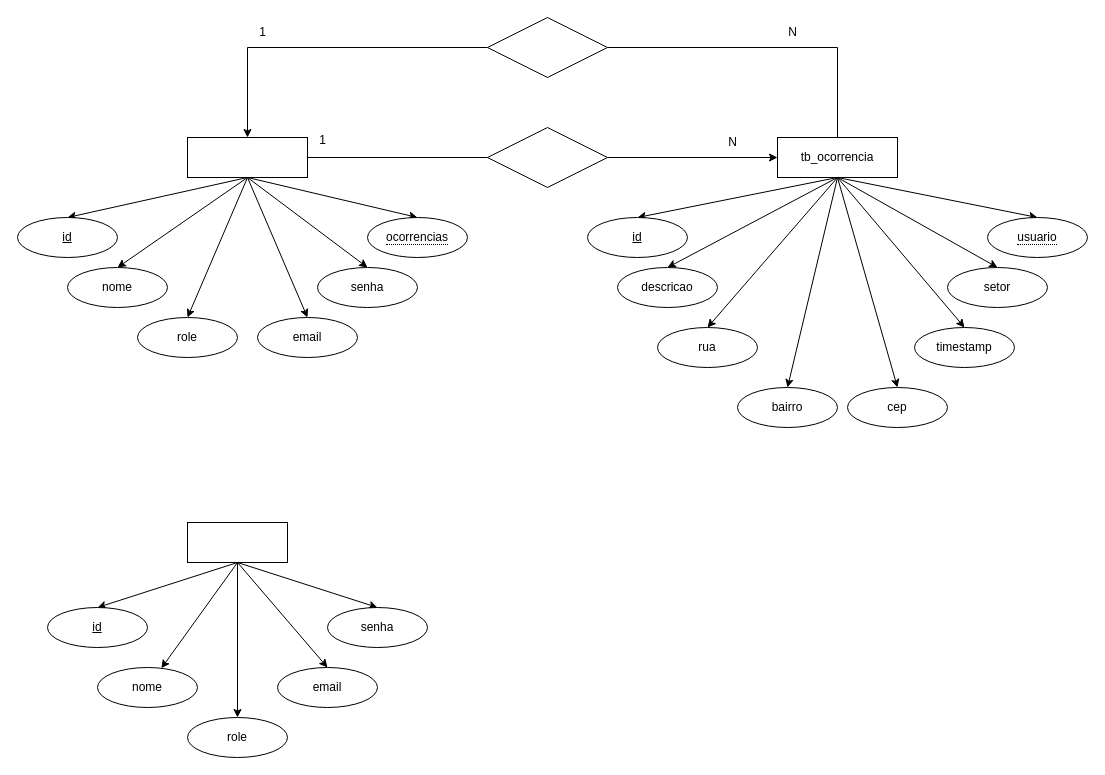
The diagram is 1105 pixels wide and 775 high, and some of its shapes have lost their labels. The shapes that lost their labels are listed below. From the top down, each one's centre as x and y in pixels, then its label:
the point at 547,47: POSSUI
the point at 247,157: tb_usuario
the point at 547,157: FAZ
the point at 237,542: tb_funcionario
